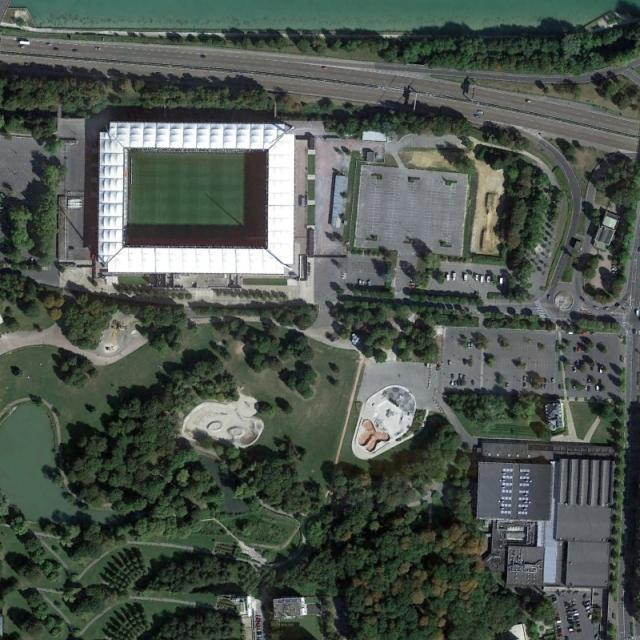vehicle: (18, 39, 31, 46), (480, 274, 485, 285), (474, 273, 479, 283), (594, 633, 600, 640), (462, 273, 467, 281), (486, 276, 491, 284), (572, 365, 577, 373), (452, 272, 456, 281), (499, 277, 503, 286), (596, 384, 600, 393), (478, 110, 485, 115), (446, 273, 450, 281), (546, 294, 550, 302), (636, 309, 640, 317), (599, 366, 603, 374), (45, 42, 52, 46), (200, 54, 207, 58), (358, 279, 362, 286), (467, 342, 471, 349), (470, 342, 474, 349), (463, 373, 467, 380), (471, 379, 475, 386), (587, 377, 591, 384), (585, 601, 590, 606), (586, 609, 591, 614), (526, 99, 532, 103), (94, 47, 102, 50), (367, 280, 371, 286), (450, 380, 454, 386), (453, 380, 457, 386), (458, 373, 462, 379), (555, 620, 561, 624), (585, 606, 591, 610), (589, 611, 592, 619), (578, 347, 582, 353), (593, 306, 599, 310), (448, 360, 451, 367), (551, 377, 554, 384), (541, 383, 544, 390), (603, 307, 610, 310), (322, 66, 327, 70), (362, 280, 365, 286), (523, 382, 526, 388), (543, 384, 546, 390), (572, 610, 578, 613), (573, 385, 576, 391), (523, 376, 526, 381), (574, 613, 579, 616), (506, 383, 509, 388)
